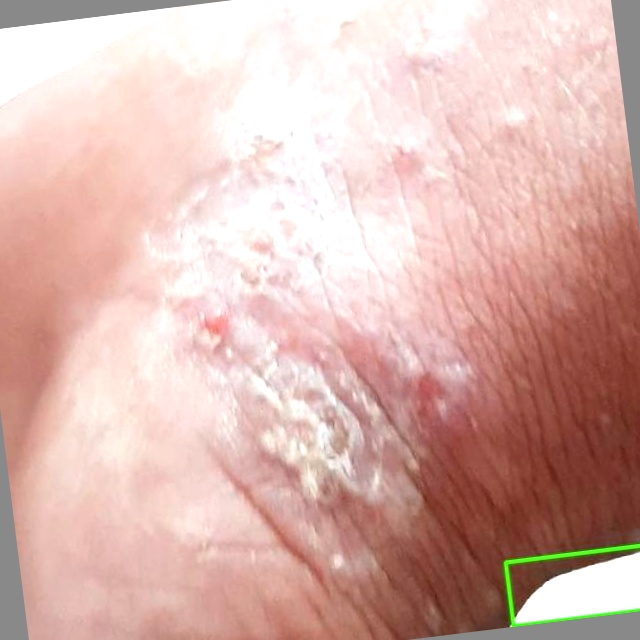Scabies: (505, 545, 639, 626)
